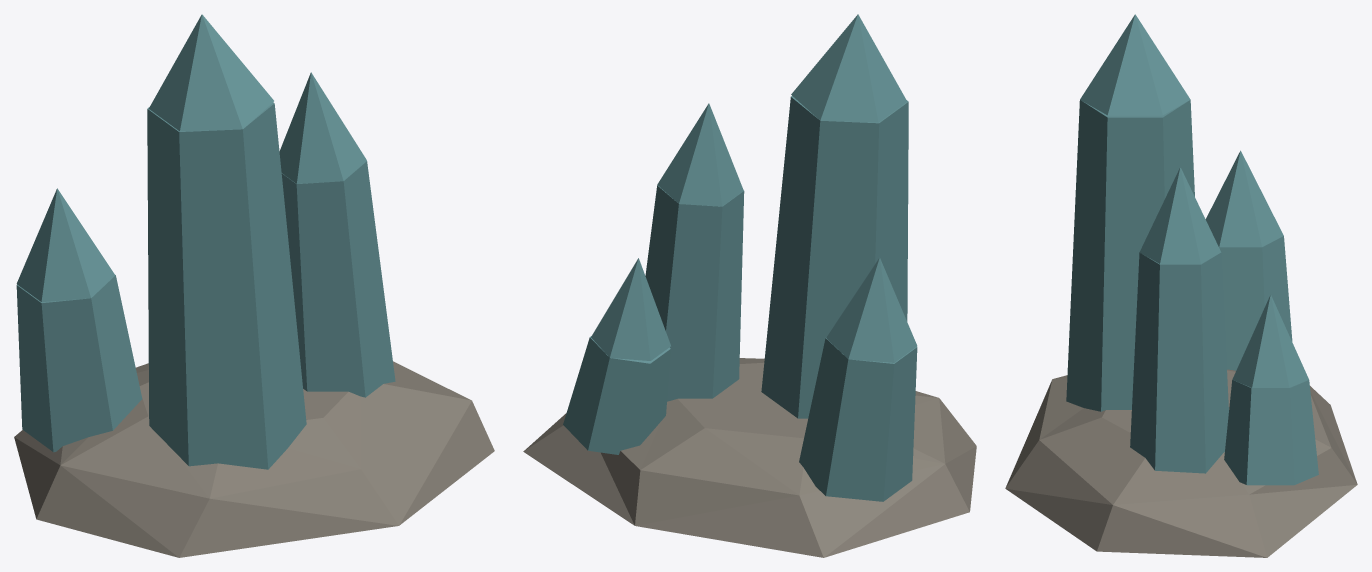
The model's file is Decor_Crystals.fbx.
3 renders of one model, left to right at view 1: azimuth 30°, elevation 25°; view 2: azimuth 150°, elevation 25°; view 3: azimuth 270°, elevation 25°, orthographic. The views are drawn at different scales.
Parts seen in each view (by area): view 1: Decor_Crystals; view 2: Decor_Crystals; view 3: Decor_Crystals.
Boxes of the visible parts, x1,y1,x2,y2 form: Decor_Crystals: (14, 14, 494, 557); Decor_Crystals: (523, 14, 976, 557); Decor_Crystals: (1005, 14, 1357, 557).
Size of the model in its own units: 1.43 by 1.55 by 1.17.
